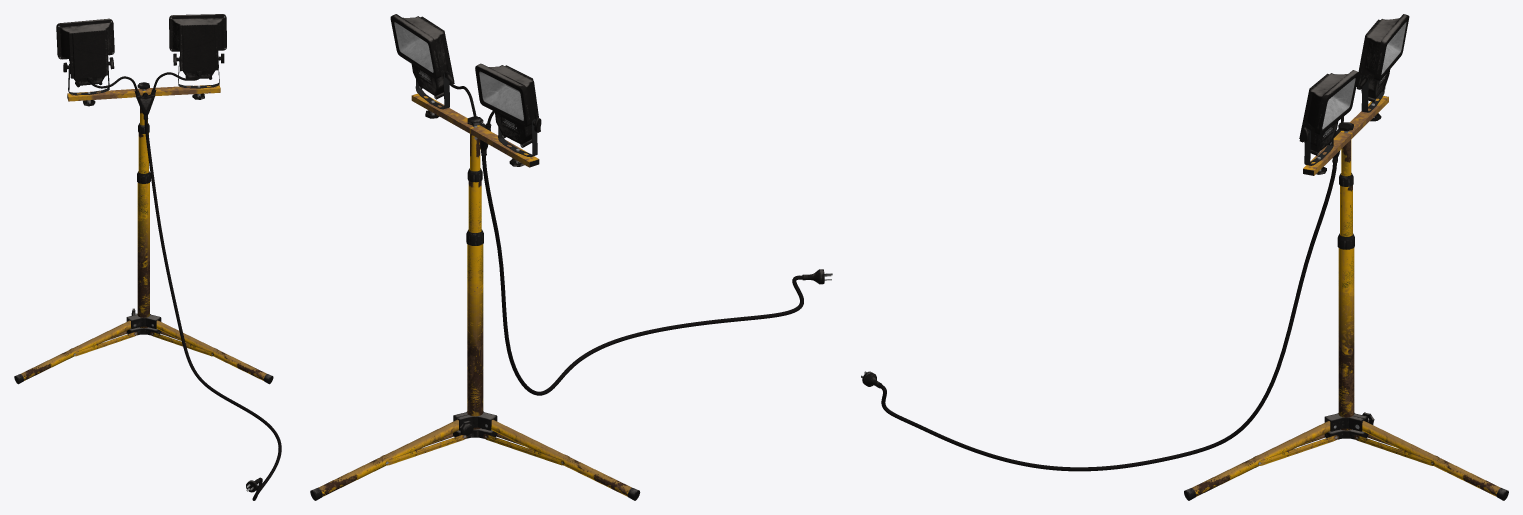
File: work_light.glb
3 views of the same model, side by side, from view 1: azimuth 30°, elevation 25°; view 2: azimuth 150°, elevation 25°; view 3: azimuth 270°, elevation 25° (orthographic). The views are drawn at different scales.
Visible parts, largest first — view 1: Industrial Light; view 2: Industrial Light; view 3: Industrial Light.
Boxes of the visible parts, left/top/right/bottom form: Industrial Light: left=14, top=14, right=281, bottom=500; Industrial Light: left=310, top=14, right=832, bottom=500; Industrial Light: left=861, top=14, right=1508, bottom=500.
Size of the model in its own units: 71.57 by 111 by 158.
Materials: 2 (2 with a texture image).
